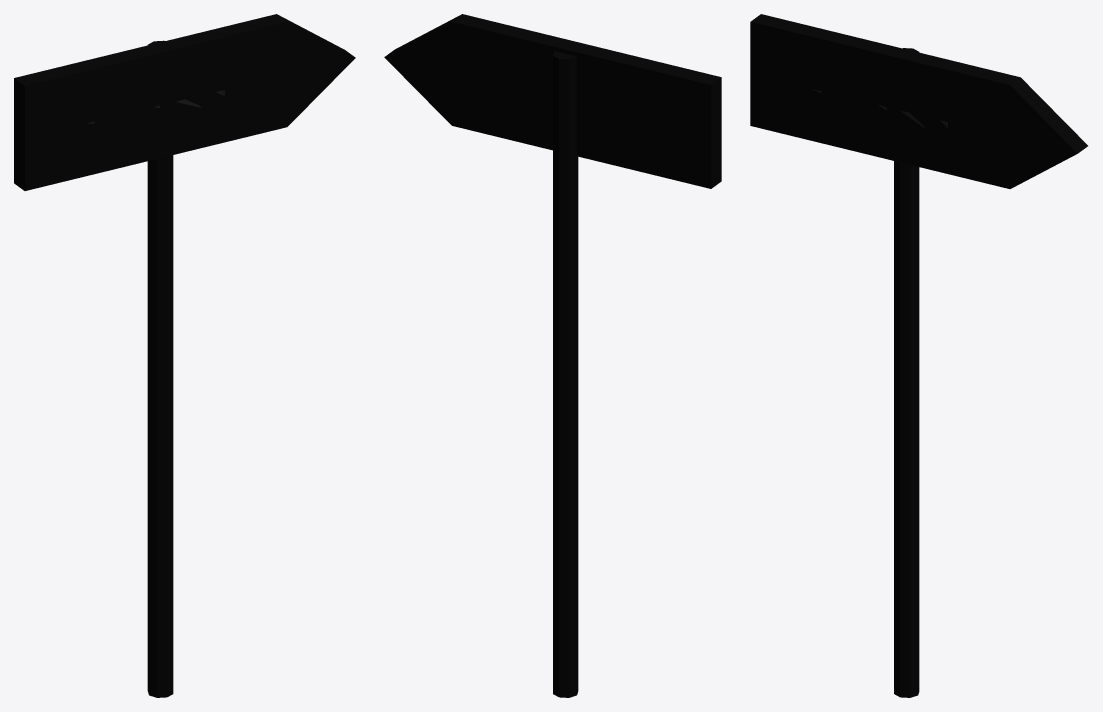
File: East sign.fbx
3 renders of one model, left to right at view 1: azimuth 30°, elevation 25°; view 2: azimuth 150°, elevation 25°; view 3: azimuth 330°, elevation 25°, orthographic.
Visible parts, largest first — view 1: Cube.002; view 2: Cube.002; view 3: Cube.002.
Part boxes in pixels (<box>): Cube.002: <box>14,14,355,697</box>; Cube.002: <box>384,14,721,697</box>; Cube.002: <box>750,14,1087,697</box>.
Bounding box in the file's own units: 115 × 215 × 10.68.
